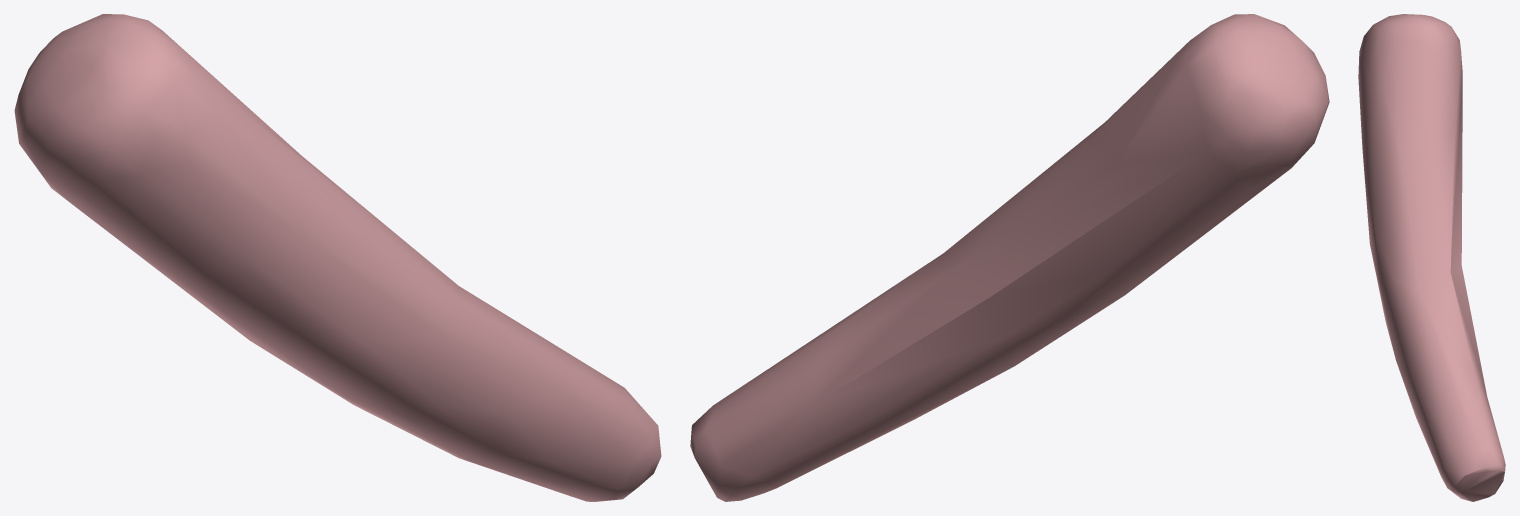
Rendered from fma68216_fj6582.glb.
3 views of the same model, side by side, from view 1: azimuth 30°, elevation 25°; view 2: azimuth 150°, elevation 25°; view 3: azimuth 270°, elevation 25° (orthographic). The views are drawn at different scales.
Visible parts, largest first — view 1: FMA68216_FJ6582; view 2: FMA68216_FJ6582; view 3: FMA68216_FJ6582.
Boxes of the visible parts, x1,y1,x2,y2 form: FMA68216_FJ6582: (14,14,661,501); FMA68216_FJ6582: (690,14,1329,501); FMA68216_FJ6582: (1358,14,1505,501).
Bounding box in the file's own units: 0.0103 × 0.00941 × 0.00365.
